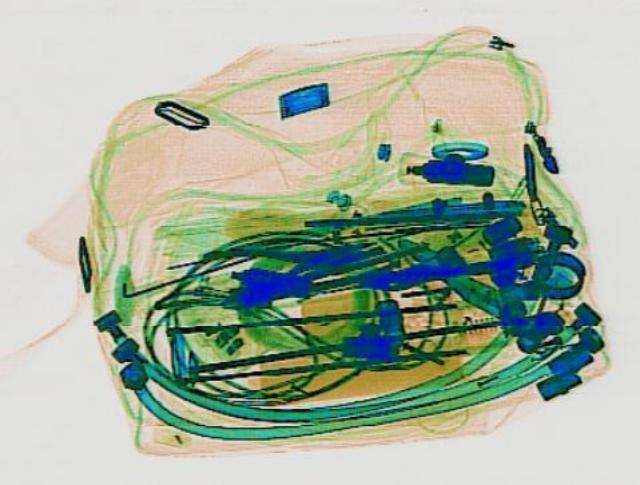Pliers: (196, 228, 352, 297)
